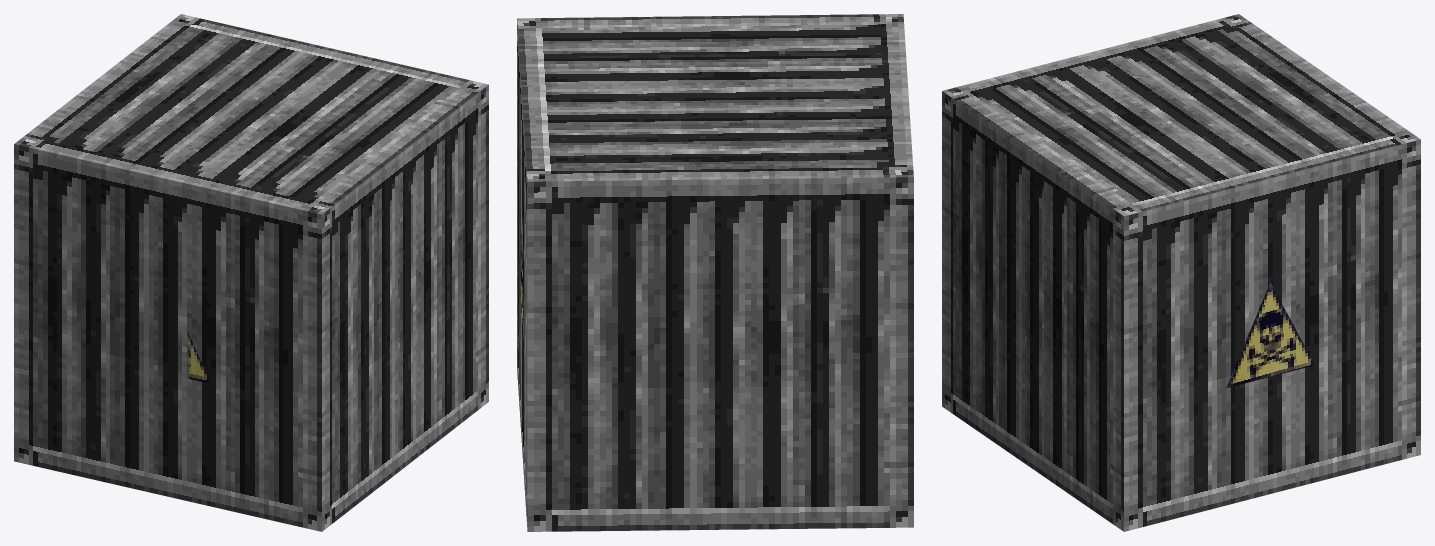
The model's file is primary_125.glb.
3 renders of one model, left to right at view 1: azimuth 30°, elevation 25°; view 2: azimuth 150°, elevation 25°; view 3: azimuth 270°, elevation 25°, orthographic. The views are drawn at different scales.
Parts seen in each view (by area): view 1: Object; view 2: Object; view 3: Object.
Part boxes in pixels (left/top/right/bottom): Object: left=14, top=14, right=488, bottom=531; Object: left=517, top=14, right=913, bottom=531; Object: left=942, top=14, right=1420, bottom=531.
Bounding box in the file's own units: 1.81 × 1.32 × 1.81.
Materials: 2 (2 with a texture image).
